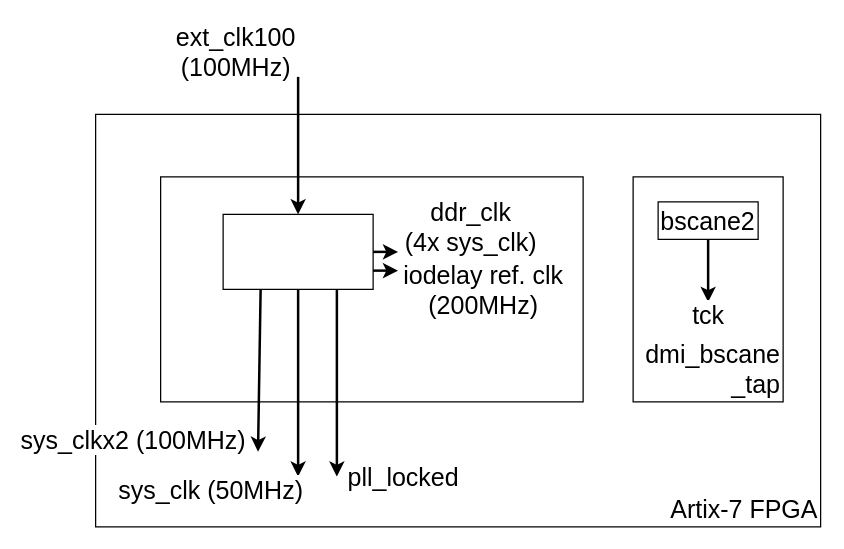
Some shapes in this 844 by 549 pixel diagram are drawn without their labels. Each missing label, with the box of its shape:
LiteDRAM: (159, 176, 583, 402)
PLL: (222, 213, 373, 289)
